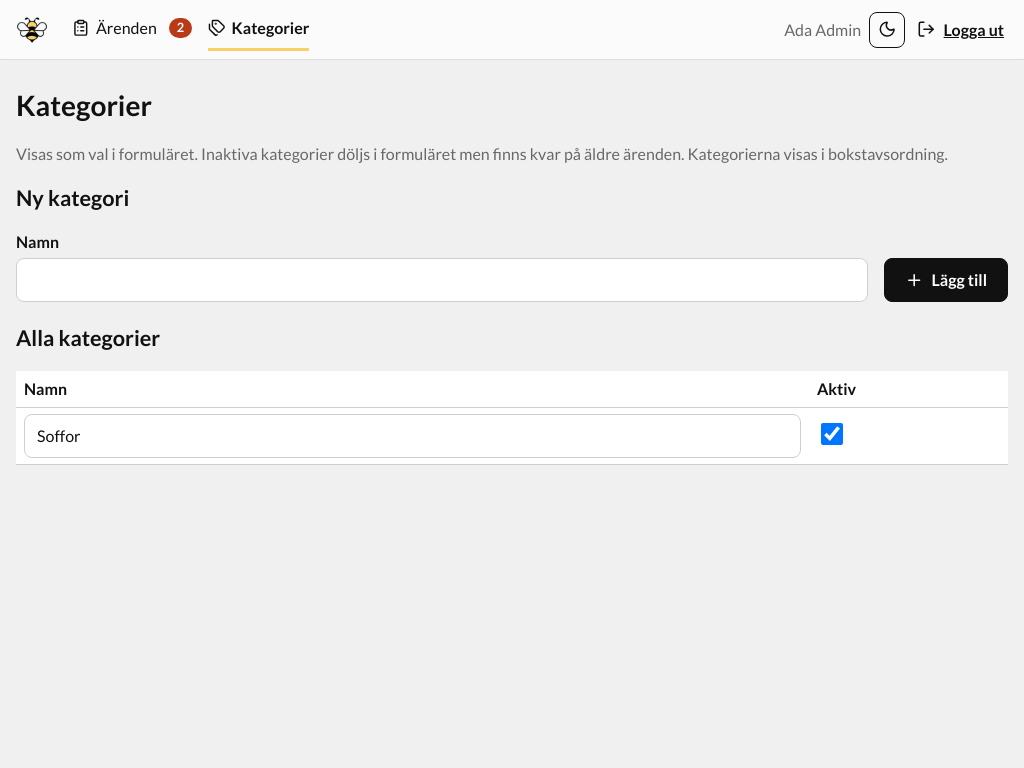
categories › lets admins add and deactivate categories
Click the checkbox named "Soffor aktiv": (832, 434) [821,423,843,445]
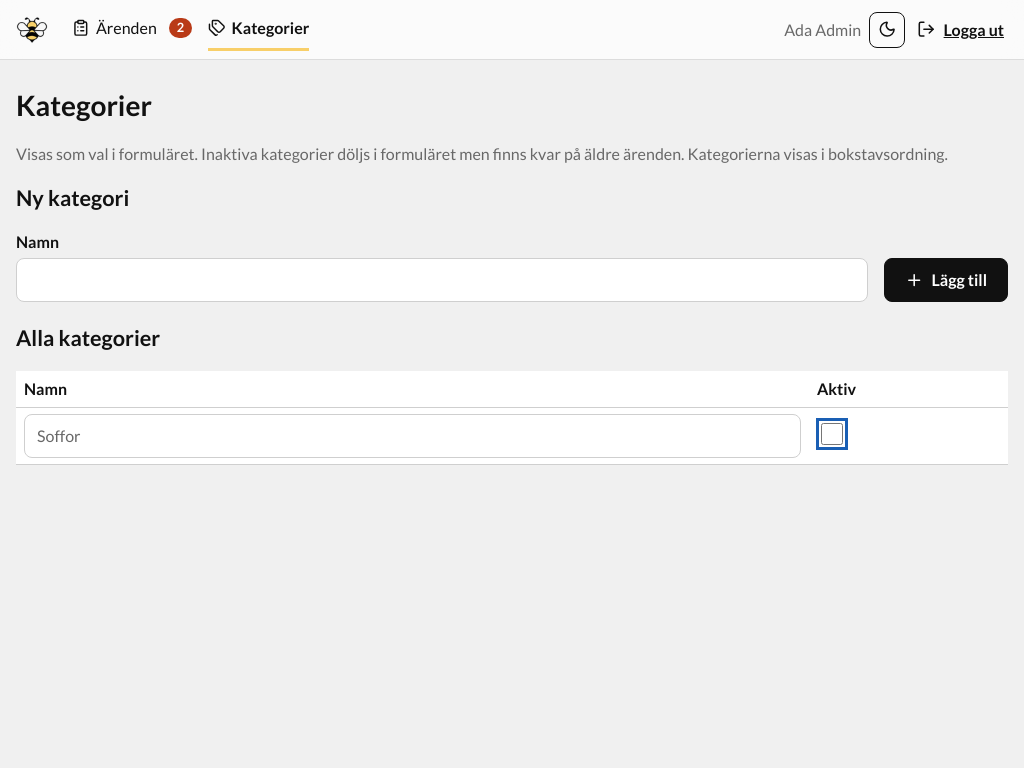
In the field labelled "Namn": (442, 280) [16,258,868,302], type "Soffor"
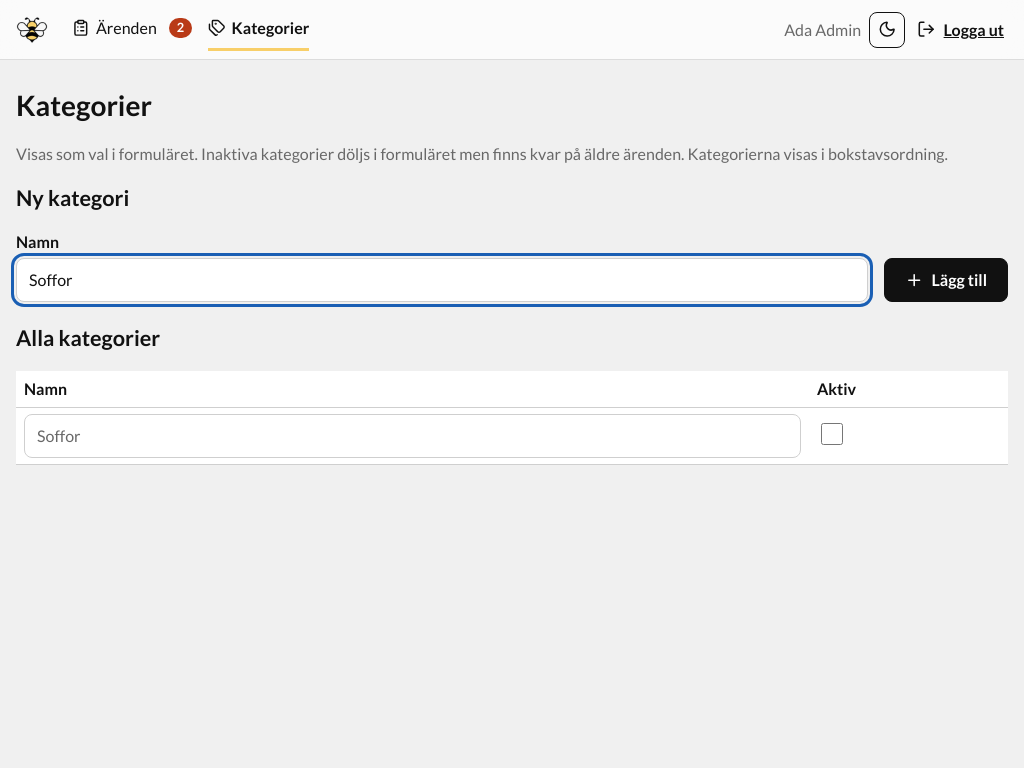
Click the button "Lägg till": (946, 280) [884,258,1008,302]
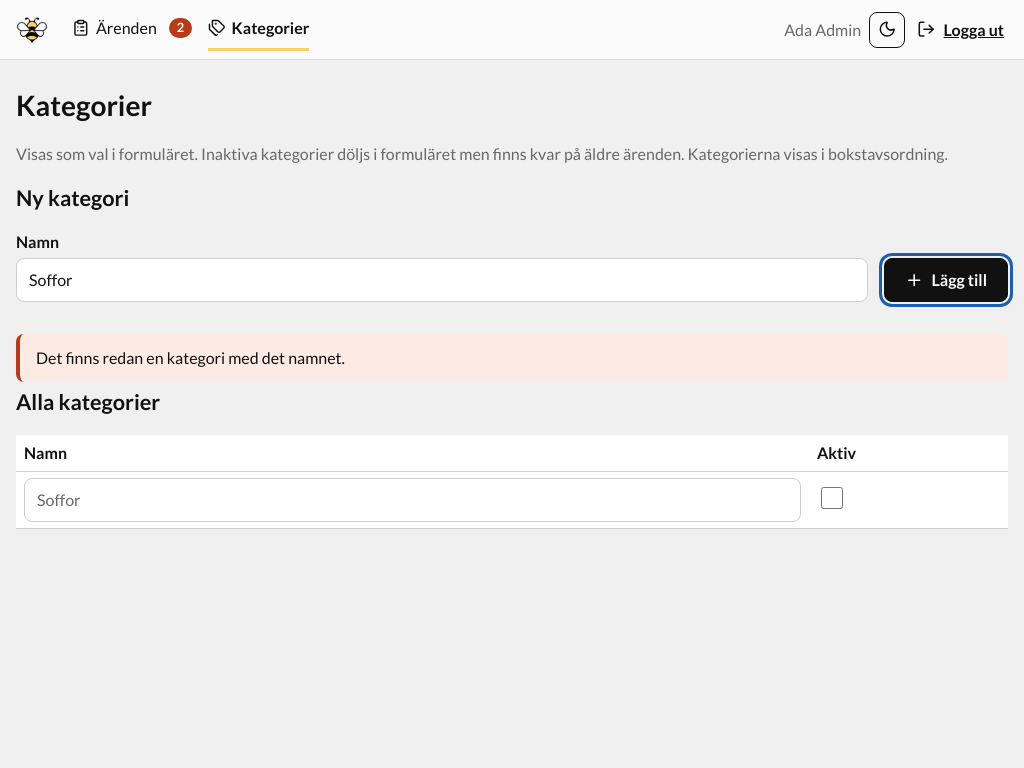
Check: the message reads "Det finns redan en kategori med det namnet.", box [36,348,345,367]
